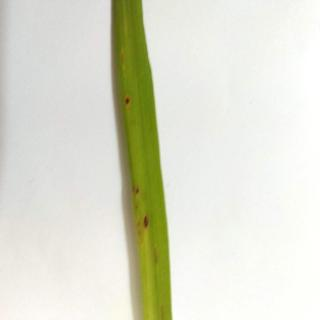bercak-Cokelat: (128, 183, 166, 267), (116, 90, 138, 110)
